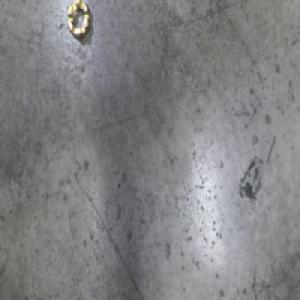Nut: (65, 0, 92, 42)
